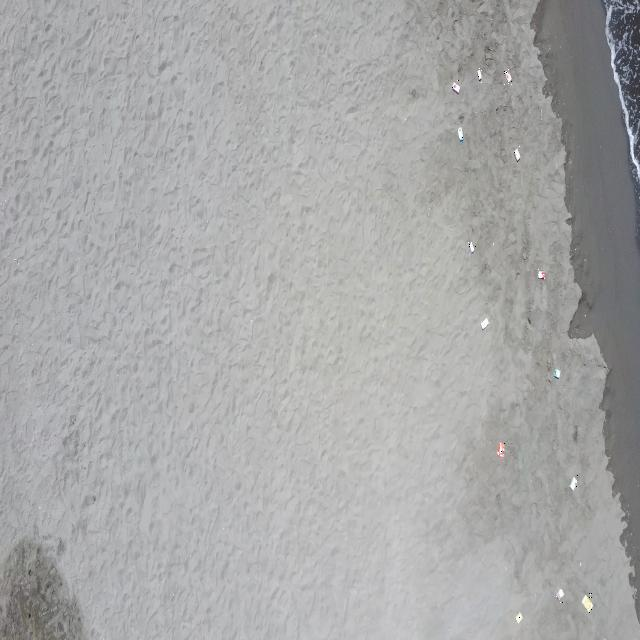Garbage: (582, 596, 592, 612), (496, 440, 504, 456), (555, 587, 564, 600), (568, 475, 576, 489), (512, 148, 520, 160), (456, 127, 462, 141), (504, 69, 510, 83), (480, 318, 488, 328), (452, 81, 459, 92), (515, 612, 522, 623), (552, 368, 560, 377), (536, 270, 544, 279), (468, 240, 473, 252), (477, 68, 480, 80)
